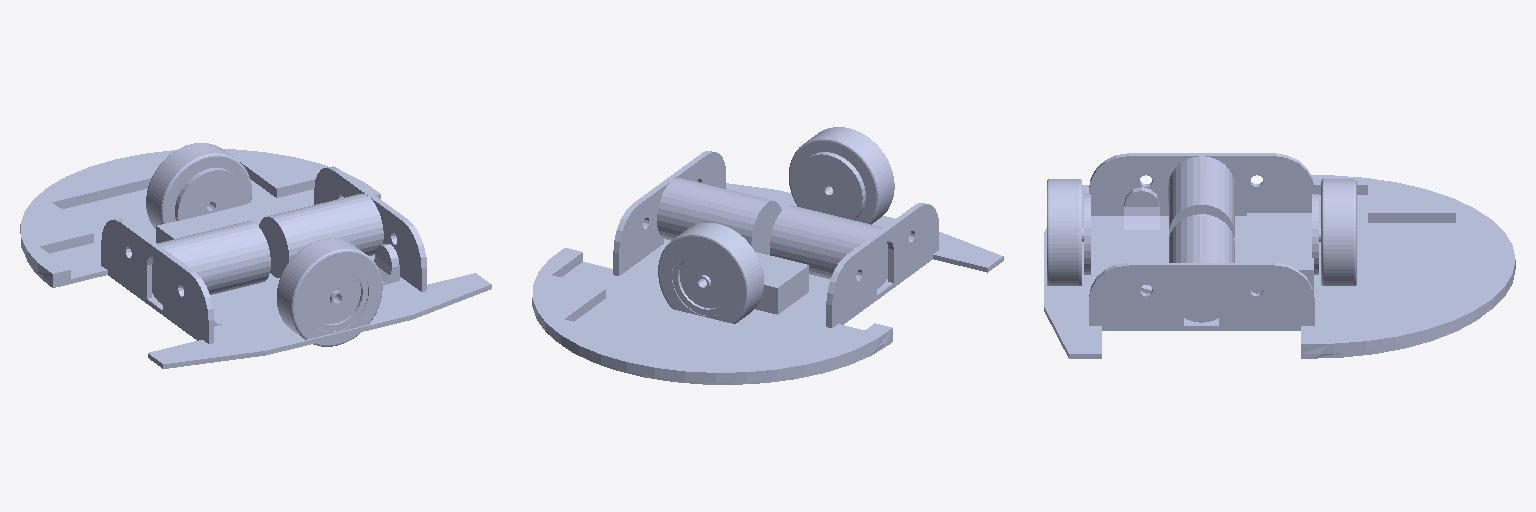
The robot description file, URDF, robot "mousebot":
<?xml version="1.0" encoding="utf-8"?>
<!-- This URDF was automatically created by SolidWorks to URDF Exporter! Originally created by [author] ([email redacted])
     Commit Version: 1.6.0-1-g15f4949  Build Version: 1.6.7594.29634
     For more information, please see http://wiki.ros.org/sw_urdf_exporter -->
<robot
  name="mousebot">
  <link
    name="mousebot">
    <inertial>
      <origin
        xyz="0.0097506 0 0.010314"
        rpy="0 0 0" />
      <mass
        value="0.147" />
      <inertia
        ixx="7.4724E-05"
        ixy="3.4149E-21"
        ixz="3.363E-08"
        iyy="0.00012775"
        iyz="-3.5117E-21"
        izz="0.00019203" />
    </inertial>
    <visual>
      <origin
        xyz="0 0 0"
        rpy="0 0 0" />
      <geometry>
        <mesh
          filename="package://mousebot/meshes/mousebot.STL" />
      </geometry>
      <material
        name="">
        <color
          rgba="0.79216 0.81961 0.93333 1" />
      </material>
    </visual>
    <collision>
      <origin
        xyz="0 0 0"
        rpy="0 0 0" />
      <geometry>
        <mesh
          filename="package://mousebot/meshes/mousebot_col.STL" />
      </geometry>
    </collision>
  </link>

  <link
    name="R_wheel">
    <inertial>
      <origin
        xyz="0 -0.00635 0"
        rpy="0 0 0" />
      <mass
        value="0.010055" />
      <inertia
        ixx="7.6865E-07"
        ixy="2.2411E-23"
        ixz="1.4542E-23"
        iyy="1.267E-06"
        iyz="4.8169E-39"
        izz="7.6865E-07" />
    </inertial>
    <visual>
      <origin
        xyz="0 0 0"
        rpy="0 0 0" />
      <geometry>
        <mesh
          filename="package://mousebot/meshes/R_wheel.STL" />
      </geometry>
      <material
        name="">
        <color
          rgba="0.79216 0.81961 0.93333 1" />
      </material>
    </visual>
    <collision>
      <origin
        xyz="0 0 0"
        rpy="0 0 0" />
      <geometry>
        <mesh
          filename="package://mousebot/meshes/R_wheel_col.STL" />
      </geometry>
    </collision>
  </link>
  <joint
    name="R_wheel_cont"
    type="continuous">
    <origin
      xyz="0 -0.03175 0.0127"
      rpy="0 0 0" />
    <parent
      link="mousebot" />
    <child
      link="R_wheel" />
    <axis
      xyz="0 1 0" />
    <limit
      effort="0"
      velocity="200" />
  </joint>

  <link
    name="L_wheel">
    <inertial>
      <origin
        xyz="0 0.00635 0"
        rpy="0 0 0" />
      <mass
        value="0.010055" />
      <inertia
        ixx="7.6865E-07"
        ixy="5.6028E-24"
        ixz="9.9526E-23"
        iyy="1.267E-06"
        iyz="-1.1206E-23"
        izz="7.6865E-07" />
    </inertial>
    <visual>
      <origin
        xyz="0 0 0"
        rpy="0 0 0" />
      <geometry>
        <mesh
          filename="package://mousebot/meshes/L_wheel.STL" />
      </geometry>
      <material
        name="">
        <color
          rgba="0.79216 0.81961 0.93333 1" />
      </material>
    </visual>
    <collision>
      <origin
        xyz="0 0 0"
        rpy="0 0 0" />
      <geometry>
        <mesh
          filename="package://mousebot/meshes/L_wheel_col.STL" />
      </geometry>
    </collision>
  </link>
  <joint
    name="L_wheel_cont"
    type="continuous">
    <origin
      xyz="0 0.03175 0.0127"
      rpy="0 0 0" />
    <parent
      link="mousebot" />
    <child
      link="L_wheel" />
    <axis
      xyz="0 1 0" />
    <limit
      effort="0"
      velocity="200" />
  </joint>

    <joint name="hokuyo_joint" type="fixed">
    <axis xyz="0 1 0" />
    <origin xyz="0 0 0.03" rpy="0 0 3.1415926"/>
    <parent link="mousebot"/>
    <child link="hokuyo_link"/>
  </joint>
  <link name="hokuyo_link">
    <collision>
      <origin xyz="0 0 0" rpy="0 0 0"/>
      <geometry>
    <box size="0.01 0.01 0.01"/>
      </geometry>
    </collision>
    <visual>
      <origin xyz="0 0 0" rpy="0 0 0"/>
      <geometry>
        <mesh filename="package://mousebot/meshes/hokuyo.dae" scale="0.1 0.1 0.1"/>
      </geometry>
    </visual>
    <inertial>
      <mass value="1e-5" />
      <origin xyz="0 0 0" rpy="0 0 0"/>
      <inertia ixx="1e-6" ixy="0" ixz="0" iyy="1e-6" iyz="0" izz="1e-6" />
    </inertial>
  </link>

  <gazebo reference="mousebot">
    <material>Gazebo/Green</material>
  </gazebo>

  <gazebo reference="R_wheel">
    <material>Gazebo/DarkGrey</material>
    <mu1>1.0</mu1>
    <mu2>1.0</mu2>
    <kp>1000000.0</kp>
    <kd>100.0</kd>
    <minDepth>0.001</minDepth>
    <maxVel>5.0</maxVel>
  </gazebo>

  <gazebo reference="L_wheel">
    <material>Gazebo/DarkGrey</material>
    <mu1>1.0</mu1>
    <mu2>1.0</mu2>
    <kp>1000000.0</kp>
    <kd>100.0</kd>
    <minDepth>0.001</minDepth>
    <maxVel>5.0</maxVel>
  </gazebo>

  <gazebo reference="hokuyo_link">
    <sensor type="ray" name="head_hokuyo_sensor">
      <pose>0 0 0 0 0 0</pose>
      <visualize>false</visualize>
      <update_rate>100</update_rate>
      <ray>
        <scan>
          <horizontal>
            <samples>361</samples>
            <resolution>1</resolution>
            <min_angle>-3.1415926</min_angle>
            <max_angle>3.1415926</max_angle>
          </horizontal>
        </scan>
        <range>
          <min>0.05</min>
          <max>0.3</max>
          <resolution>0.01</resolution>
        </range>
        <noise>
          <type>gaussian</type>
          <!-- Noise parameters based on published spec for Hokuyo laser
               achieving "+-30mm" accuracy at range < 10m.  A mean of 0.0m and
               stddev of 0.01m will put 99.7% of samples within 0.03m of the true
               reading. -->
          <mean>0.0</mean>
          <stddev>0.001</stddev>
        </noise>
      </ray>
      <plugin name="gazebo_ros_head_hokuyo_controller" filename="libgazebo_ros_laser.so">
        <topicName>scan</topicName>
        <frameName>hokuyo_link</frameName>
      </plugin>
    </sensor>
  </gazebo>

  <gazebo>
      <plugin name="differential_drive_controller" filename="libgazebo_ros_diff_drive.so">
      <alwaysOn>true</alwaysOn>
      <updateRate>100</updateRate>
      <leftJoint>L_wheel_cont</leftJoint>
      <rightJoint>R_wheel_cont</rightJoint>
      <wheelSeparation>0.088</wheelSeparation>
      <wheelDiameter>0.0310</wheelDiameter>
      <torque>20</torque>
      <commandTopic>cmd_vel</commandTopic>
      <odometryTopic>odom</odometryTopic>
      <odometryFrame>odom</odometryFrame>
      <robotBaseFrame>mousebot</robotBaseFrame>
      <odometrySource>encoder</odometrySource>
    </plugin>
  </gazebo>

</robot>

--- Render facts (derived) ---
The picture shows the robot from 3 angles, left to right: view 1: azimuth 30°, elevation 25°; view 2: azimuth 150°, elevation 25°; view 3: azimuth 270°, elevation 25°; orthographic projection.
Robot: mousebot — 4 links, 3 joints (2 continuous, 1 fixed); root link mousebot; default pose: all joints at 0.
Links seen in each view (by area): view 1: mousebot, R_wheel, L_wheel; view 2: mousebot, L_wheel, R_wheel; view 3: mousebot, L_wheel, R_wheel.
Boxes of the visible links, x1,y1,x2,y2 form: mousebot: (20, 149, 491, 368); R_wheel: (277, 238, 382, 346); L_wheel: (146, 143, 251, 228); mousebot: (532, 151, 1003, 384); L_wheel: (658, 223, 763, 323); R_wheel: (789, 127, 894, 224); mousebot: (1044, 153, 1515, 358); L_wheel: (1312, 179, 1356, 285); R_wheel: (1047, 179, 1090, 285).
Size in the robot's own frame: 0.1146 by 0.1351 by 0.0318 metres.
3 mesh visuals loaded from 4 distinct referenced files (3 binary STL); not drawn: 1 (reference not matched to a file when rendering).
